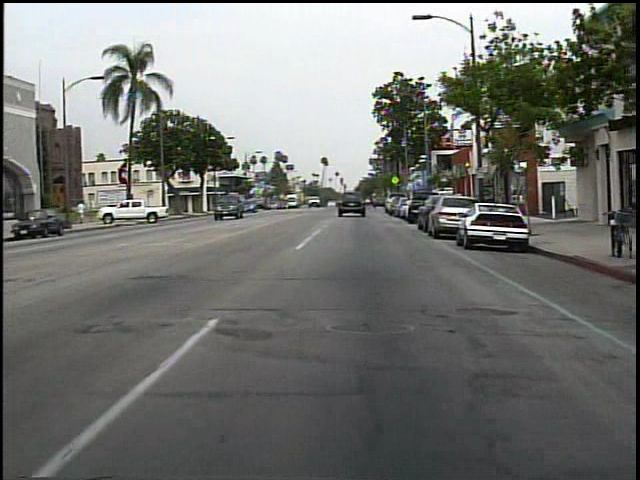person: (78, 198, 90, 227), (372, 191, 381, 213)
